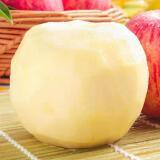apple: (9, 21, 149, 148), (124, 9, 160, 119)
